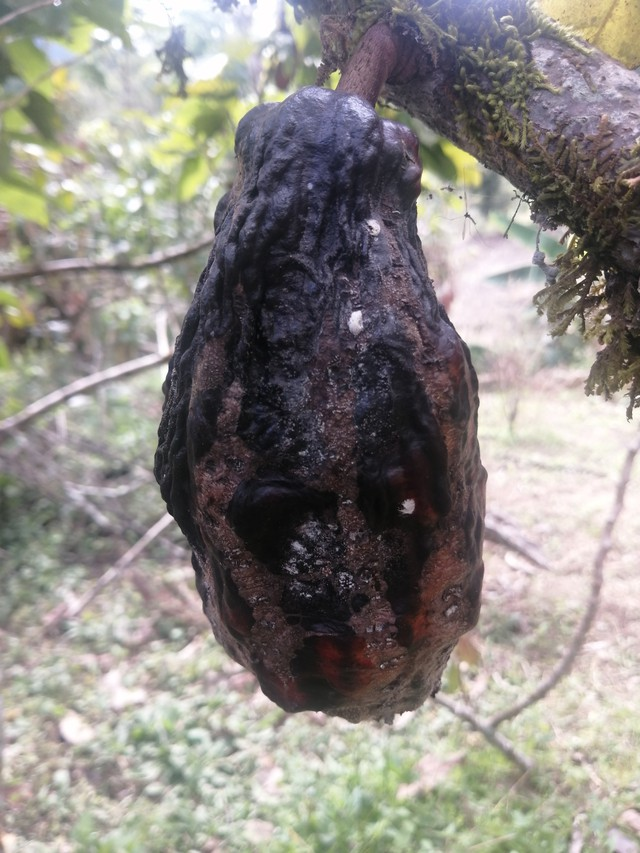moniliophthora roreri: (135, 64, 517, 733)
